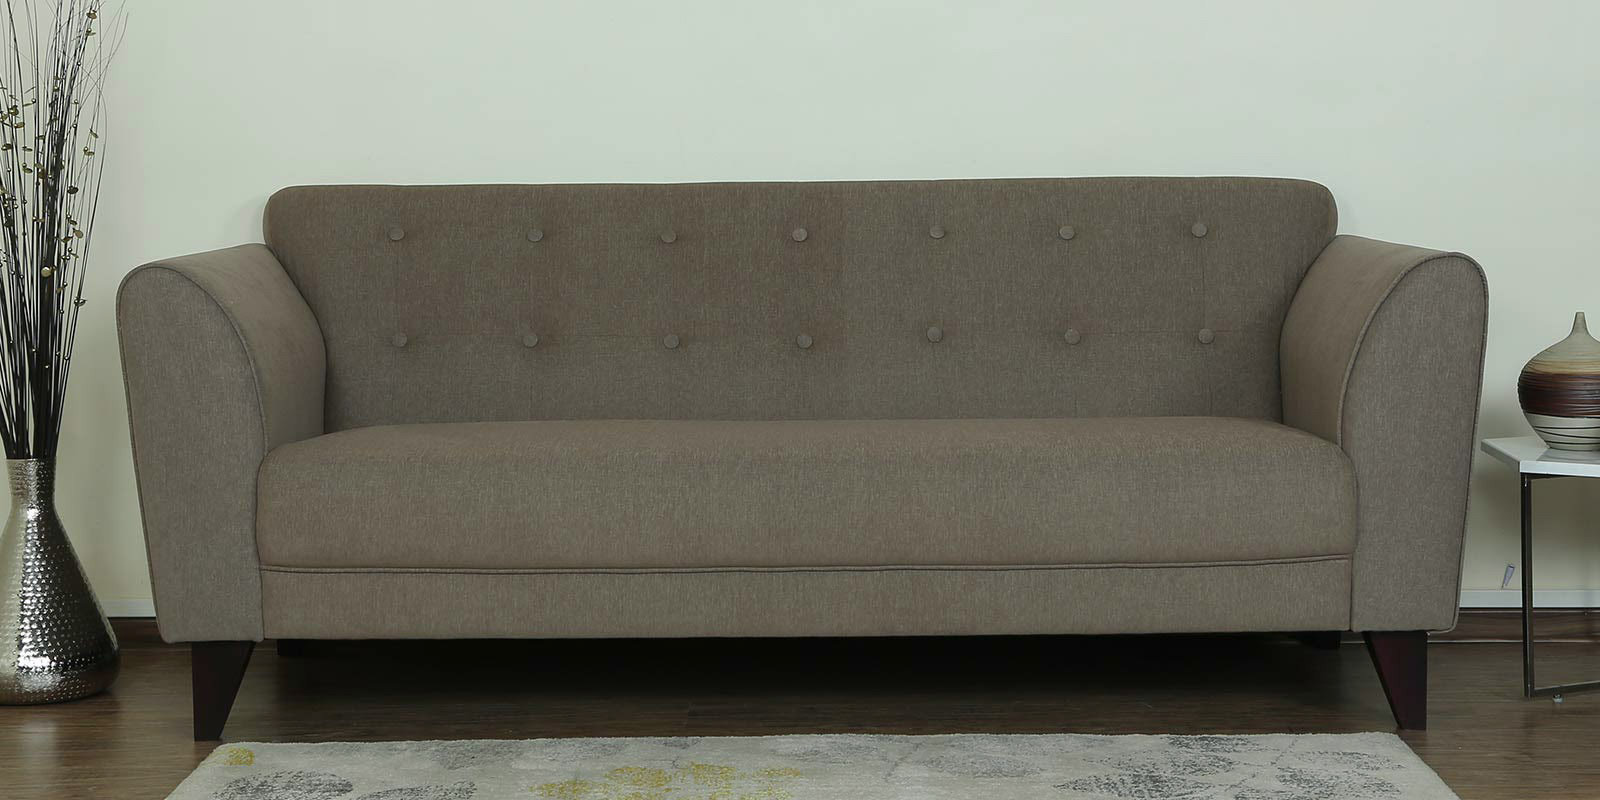Belem Three Seater Sofa in Ice Blue Color by CasaCraft: (112, 163, 1502, 695)
